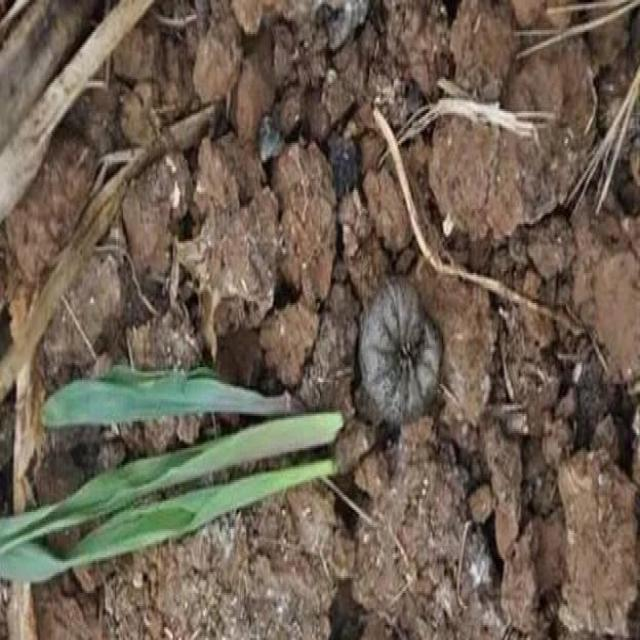black cutworm: (350, 271, 444, 424)
